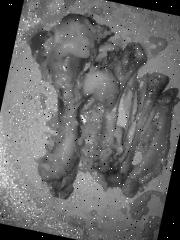organic: (22, 16, 180, 210)
